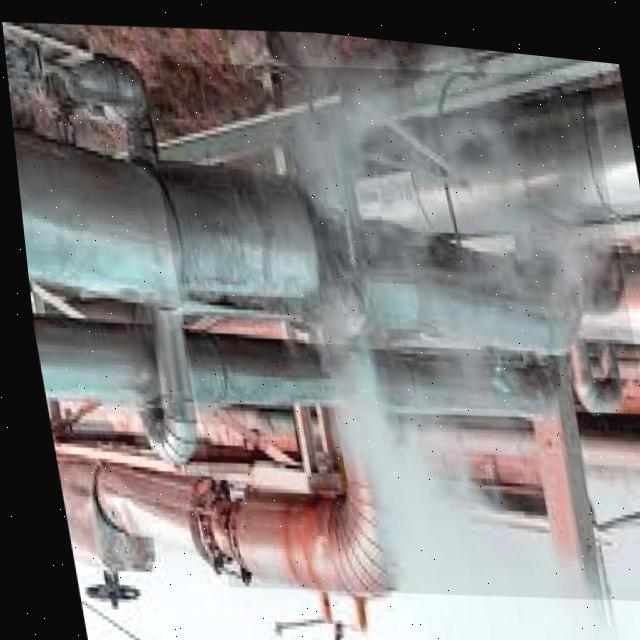corrosion: (197, 140, 409, 417)
